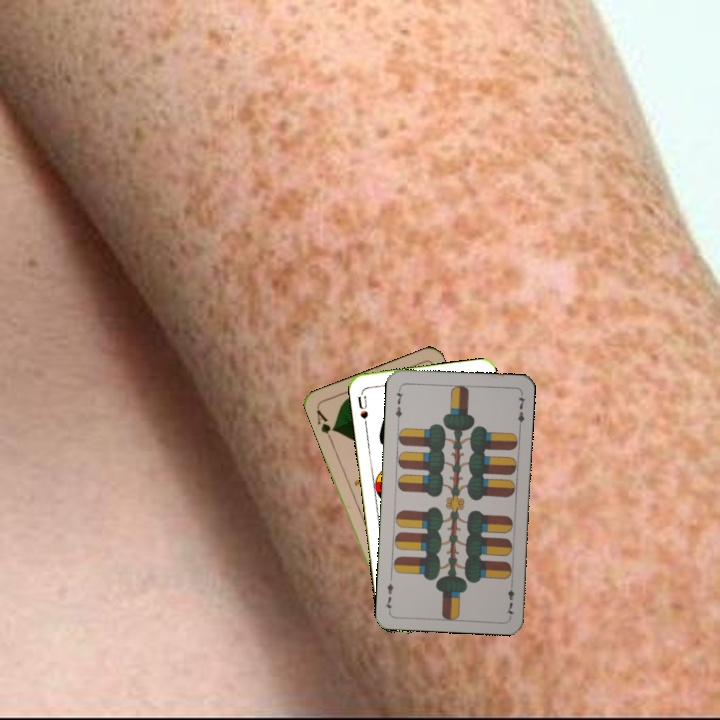E7: (502, 578, 516, 618), (391, 384, 406, 421)
GA: (312, 406, 338, 443)
SU: (353, 392, 370, 429)
